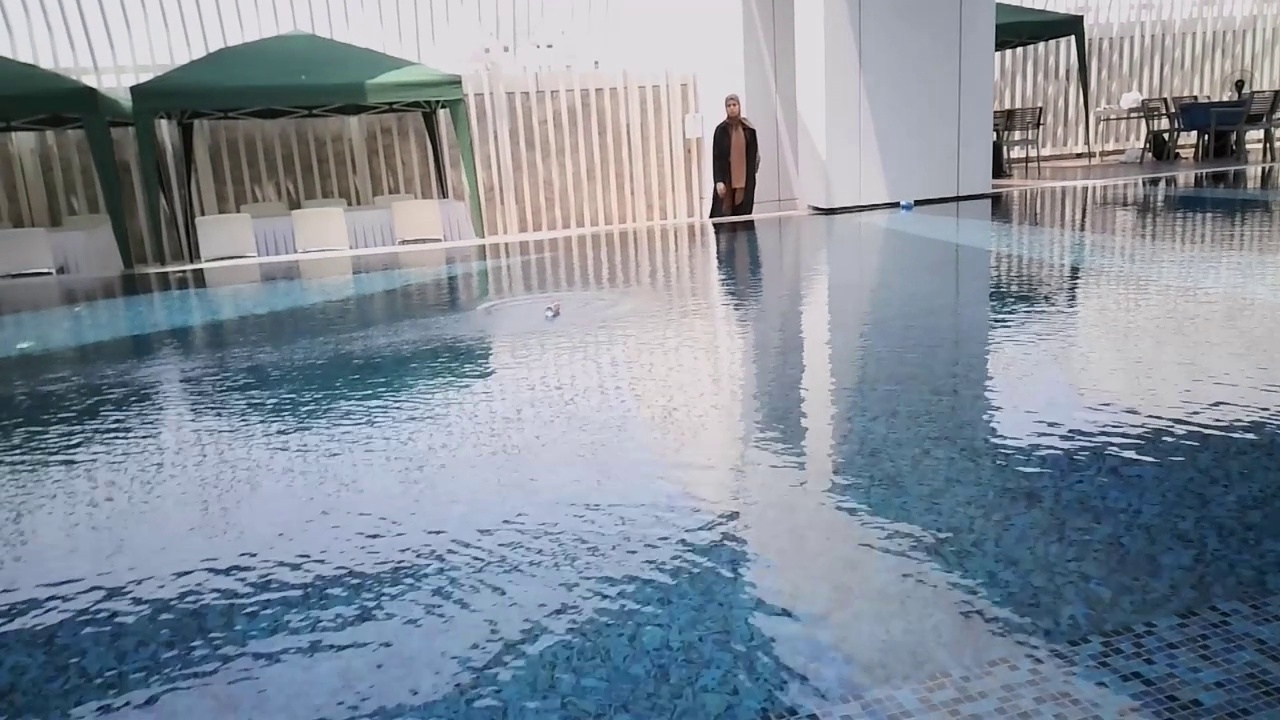debris: (540, 298, 564, 321), (897, 195, 918, 213)
